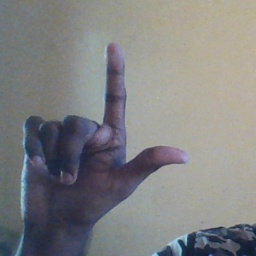L: (20, 43, 190, 222)
